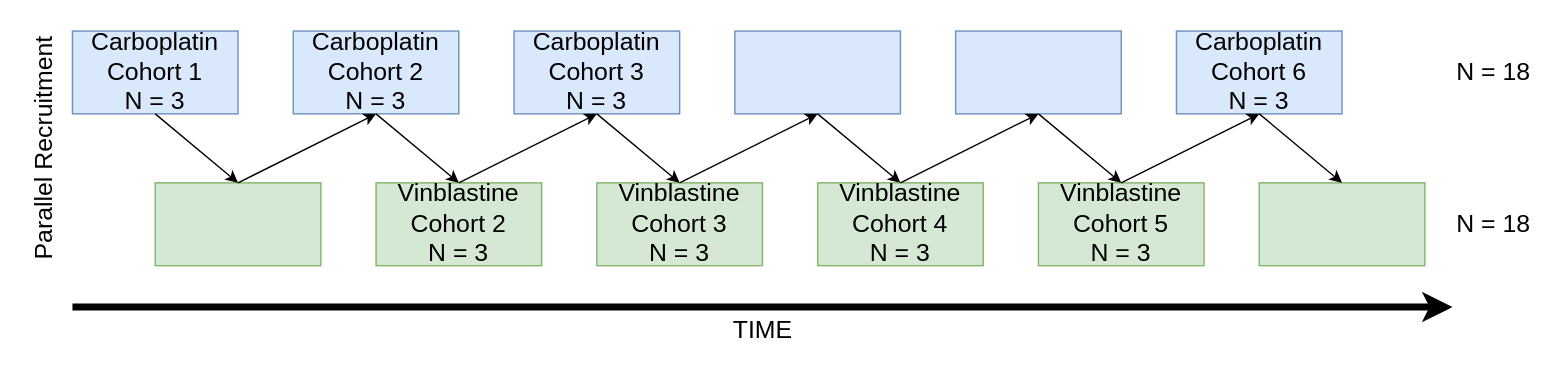
Some shapes in this 1558 by 370 pixel diagram are drawn without their labels. Each missing label, with the box of its shape:
Carboplatin Cohort 4 N = 3: (733, 30, 900, 114)
Carboplatin Cohort 5 N = 3: (954, 30, 1121, 114)
Vinblastine Cohort 1 N = 3: (154, 181, 321, 266)
Vinblastine Cohort 6 N = 3: (1258, 181, 1425, 266)
